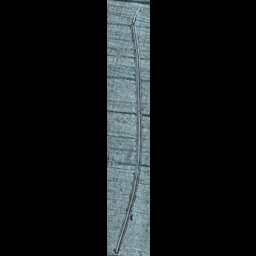d: (111, 4, 143, 254)
